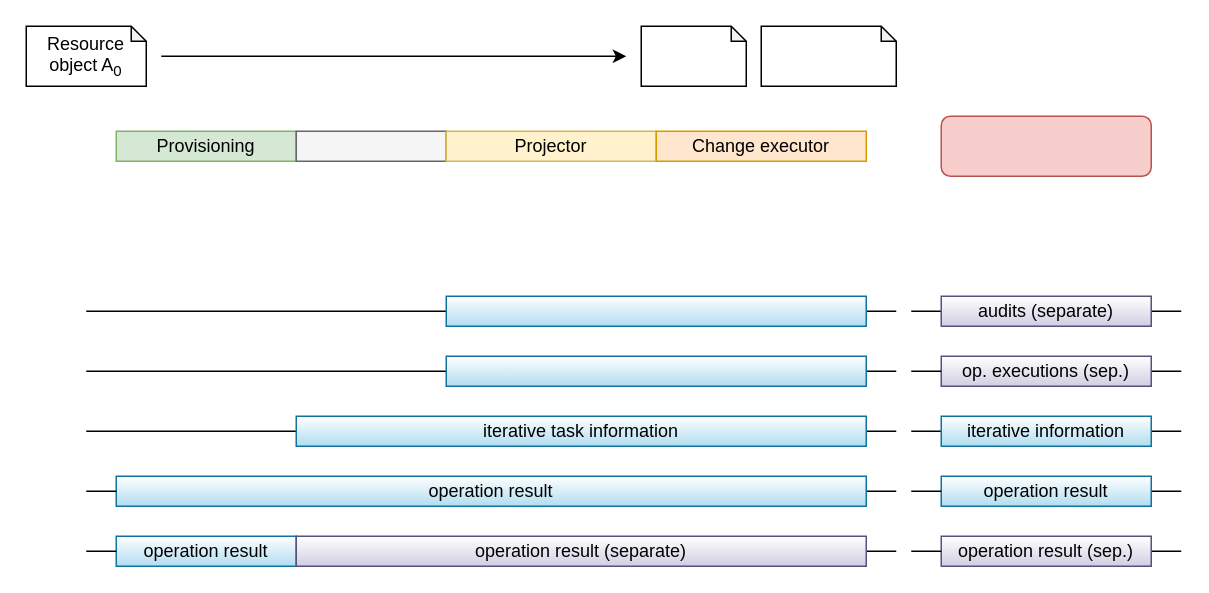
The diagram is 1209 pixels wide and 593 high, and some of its shapes have lost their labels. Here are the shapes that lost their labels. From the top down, the centre of each, then its label:
(x=693, y=55): Focus A
(x=828, y=55): Resource objects A 0 ... A n
(x=370, y=145): Sync. service
(x=1045, y=145): Embedded clockwork (consistency)
(x=655, y=310): audit
(x=655, y=370): operation execution
